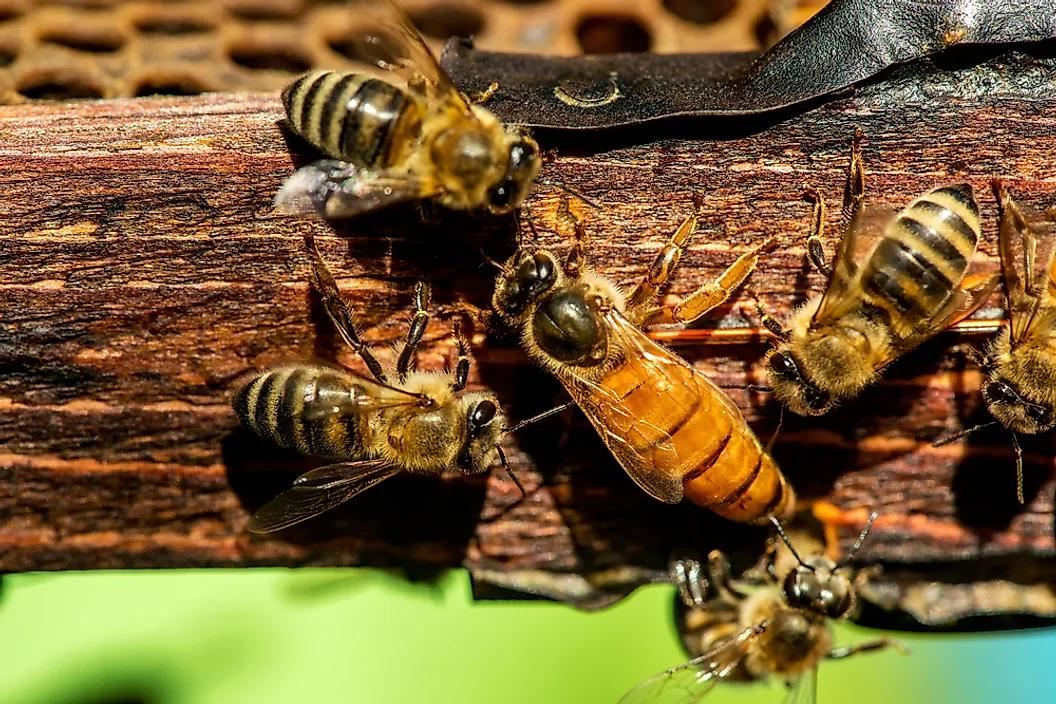Queen-Bee: (492, 197, 795, 523)
worker-bee: (232, 244, 522, 532), (766, 133, 996, 415), (273, 0, 542, 218), (620, 512, 905, 703), (976, 177, 1055, 502)
